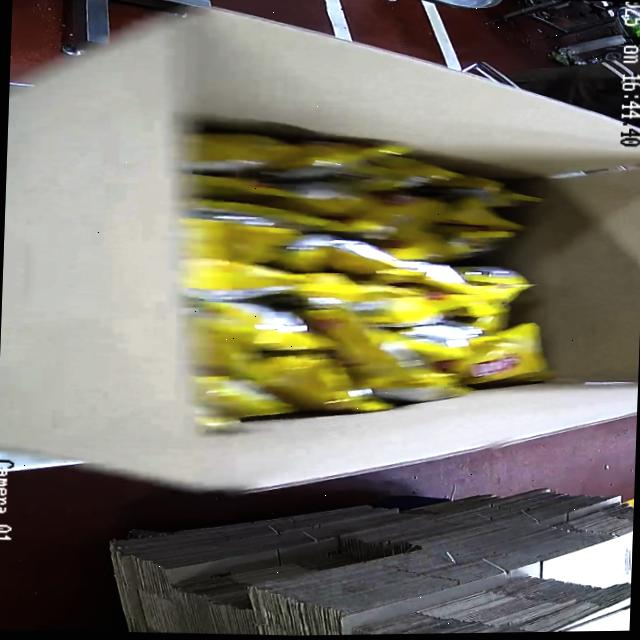SALTED: (184, 105, 554, 408)
